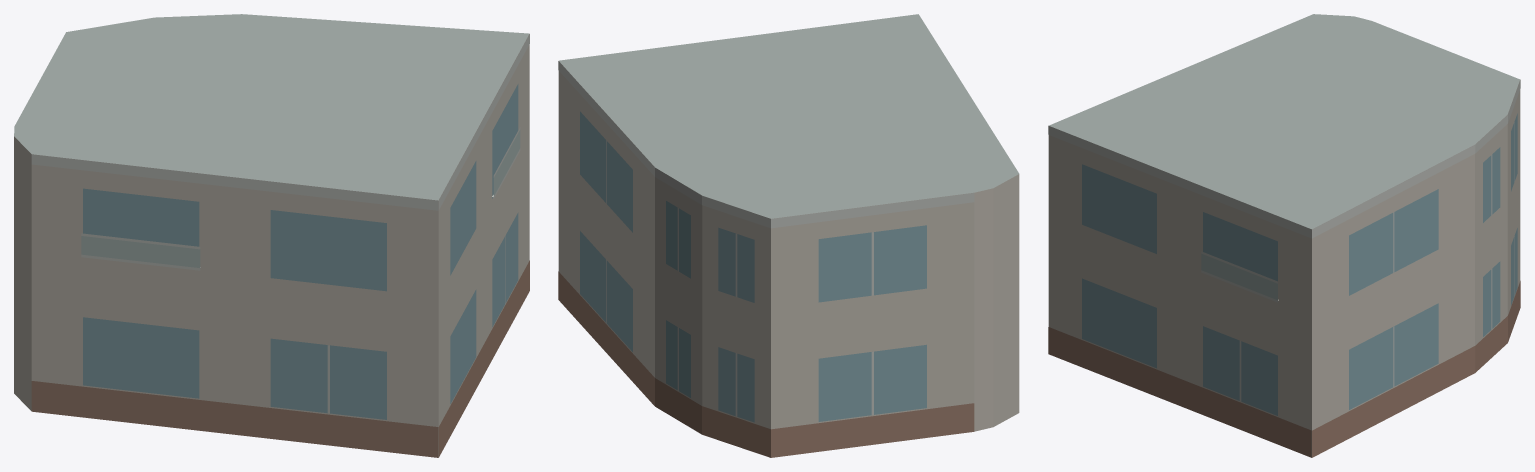
Rendered from survey-upis-32466808.glb.
The picture shows the model from 3 angles, left to right: view 1: azimuth 30°, elevation 25°; view 2: azimuth 150°, elevation 25°; view 3: azimuth 270°, elevation 25°; orthographic projection. The views are drawn at different scales.
Parts seen in each view (by area): view 1: survey-upis-32466808.tmp; view 2: survey-upis-32466808.tmp; view 3: survey-upis-32466808.tmp.
Boxes of the visible parts, x1=… form: survey-upis-32466808.tmp: x1=14, y1=14, x2=529, y2=457; survey-upis-32466808.tmp: x1=558, y1=14, x2=1019, y2=457; survey-upis-32466808.tmp: x1=1048, y1=14, x2=1520, y2=457.
Size of the model in its own units: 12.34 by 6.1 by 11.42.
